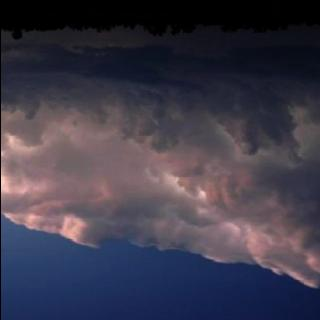Cumulonimbus: (0, 28, 320, 310)
